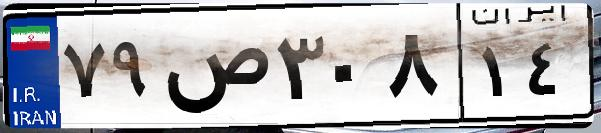0: (330, 28, 385, 110)
1: (475, 38, 525, 113)
3: (270, 28, 330, 110)
4: (525, 38, 570, 115)
7: (57, 26, 110, 100)
8: (385, 28, 445, 110)
9: (110, 28, 158, 98)
ص: (158, 20, 270, 120)
